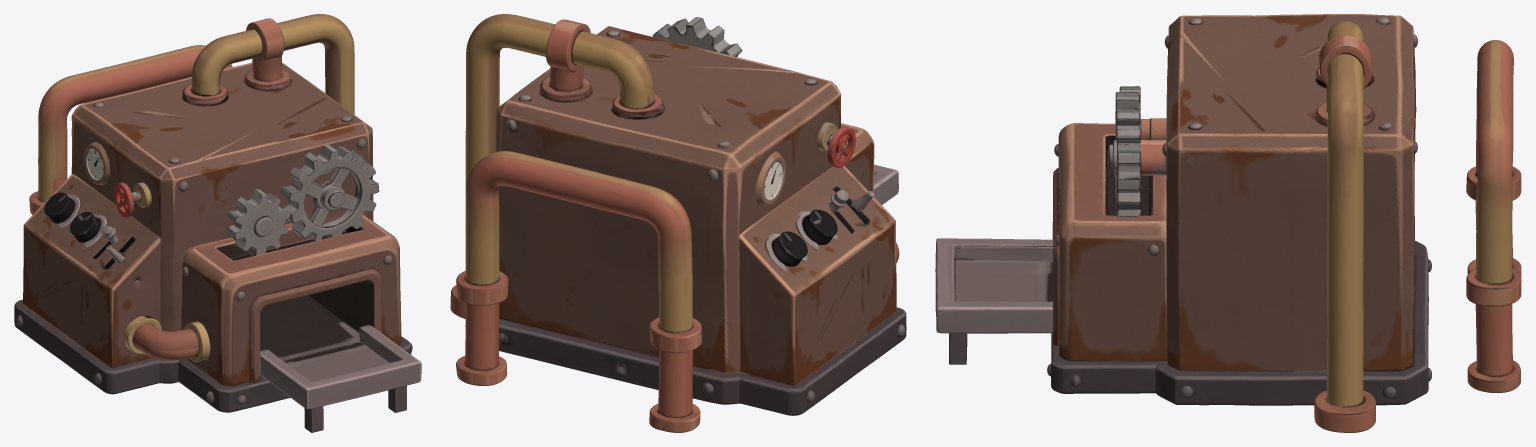
The model's file is Meshy_AI_Rusty_Gearbox_Oven_1009141854_texture.fbx.
3 views of the same model, side by side, from view 1: azimuth 30°, elevation 25°; view 2: azimuth 150°, elevation 25°; view 3: azimuth 270°, elevation 25° (orthographic). The views are drawn at different scales.
Parts seen in each view (by area): view 1: Mesh_0; view 2: Mesh_0; view 3: Mesh_0.
Boxes of the visible parts, <box> form: Mesh_0: <box>14,14,421,432</box>; Mesh_0: <box>450,14,906,432</box>; Mesh_0: <box>935,14,1521,432</box>.
Bounding box in the file's own units: 154 × 120 × 190.
1 material, 1 textured.
